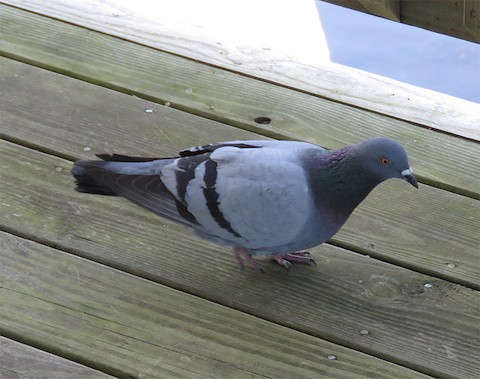pigeon: (59, 131, 427, 283)
